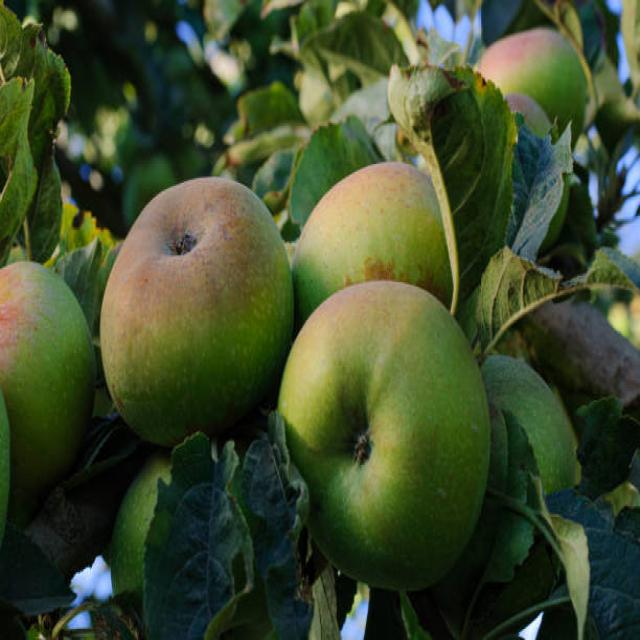Unripe: (281, 278, 492, 596), (100, 172, 294, 449)
